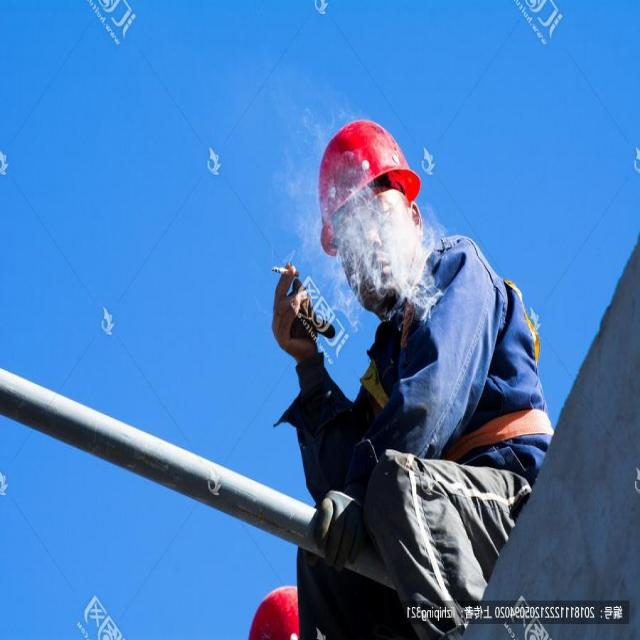Safety-Helmet: (310, 112, 424, 220), (244, 580, 304, 640)
